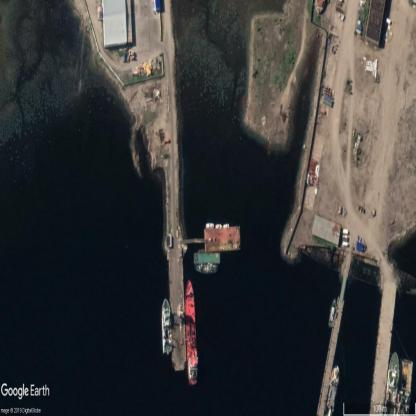ship: (185, 281, 198, 387), (385, 352, 399, 414), (323, 366, 340, 416), (160, 297, 172, 356), (196, 261, 218, 277), (329, 298, 337, 328), (206, 223, 214, 228), (215, 223, 222, 228), (223, 223, 229, 228)
